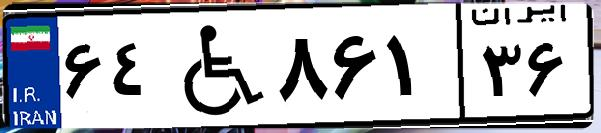1: (385, 28, 445, 110)
3: (475, 38, 525, 113)
4: (110, 28, 158, 98)
6: (330, 28, 385, 110), (57, 26, 110, 100), (525, 38, 570, 115)
8: (270, 28, 330, 110)
ژ (معلولین و جانبازان): (158, 12, 270, 120)
